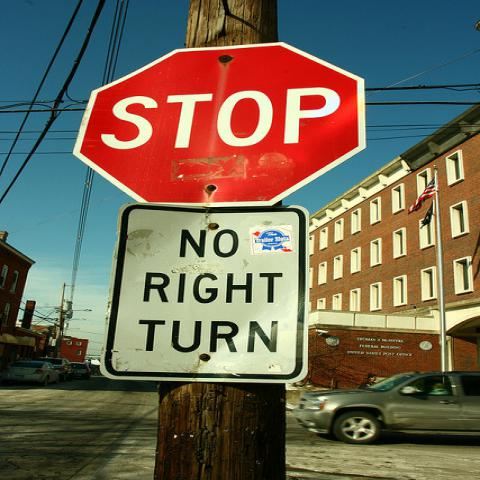car: (293, 371, 479, 447), (1, 360, 61, 386), (64, 362, 92, 382), (39, 357, 70, 370)
